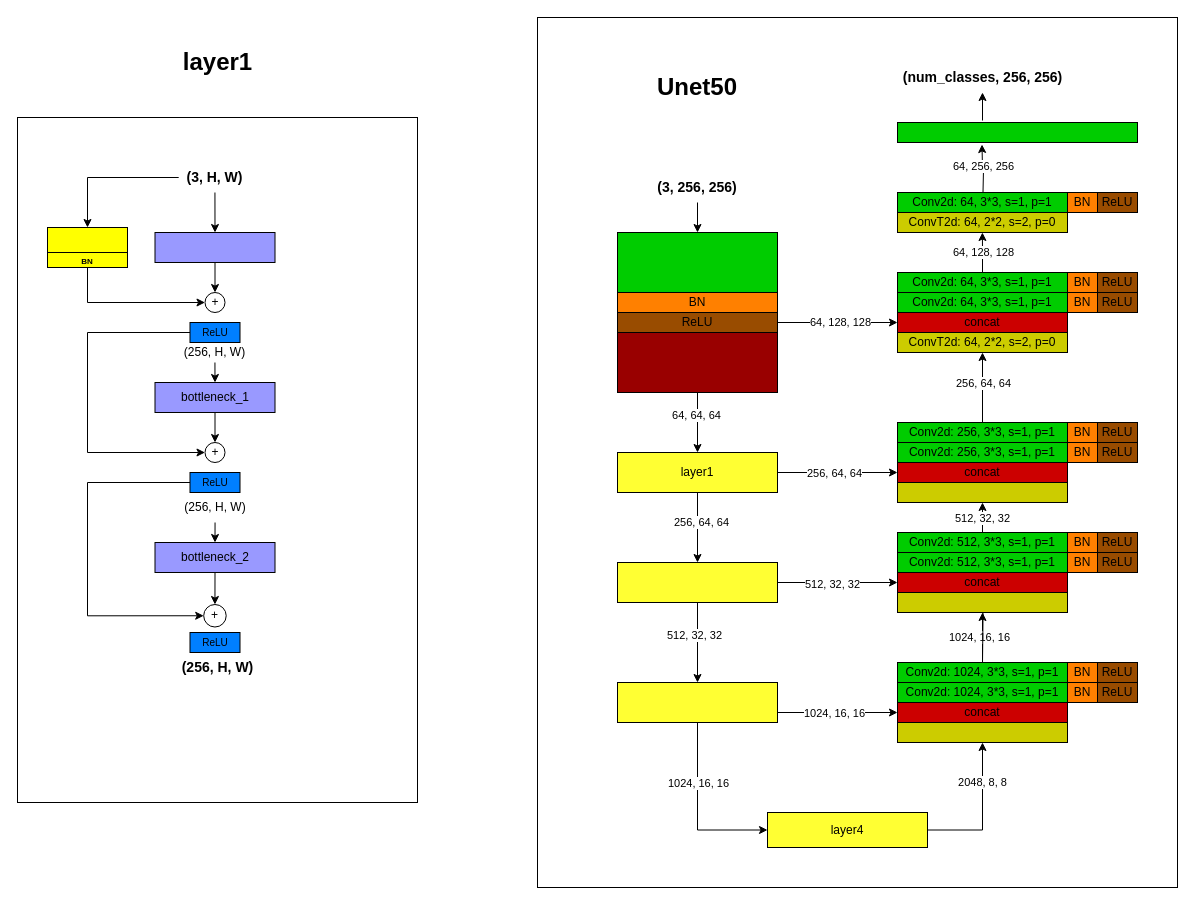
Image size: 1195x905. Some labels were removed from this diagram. Here are the shapes that lost their labels. From the top down, the box of each, then its label:
(896, 122, 1138, 142): Conv2d: num_classes, 1*1, s=1, p=1
(46, 226, 128, 258): Conv: 256, s=1, p=1
(154, 232, 275, 262): bottleneck_0
(616, 232, 778, 292): Conv2d: 64, 7*7, s=2, p=3
(616, 332, 778, 392): MaxPool2d: 3*3, s=2, p=1
(896, 482, 1068, 502): ConvT2d: 256, 2*2, s=2, p=0
(616, 562, 778, 602): layer2
(896, 592, 1068, 612): ConvT2d: 512, 2*2, s=2, p=0
(616, 682, 778, 722): layer3
(896, 722, 1068, 742): ConvT2d: 1024, 2*2, s=2, p=0
